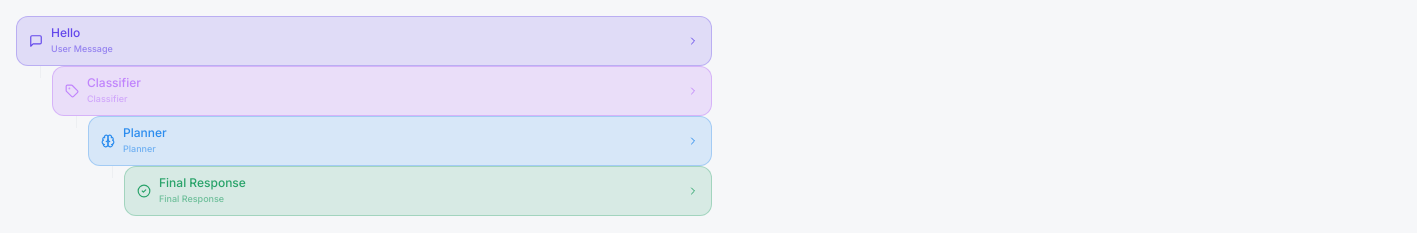
Scenario: UX1: Classifier detail panel › shows empty state when classification_done has no task_type or privacy_mode
Click the button "Classifier Classifier" at (114, 82), box [52,66,712,116]
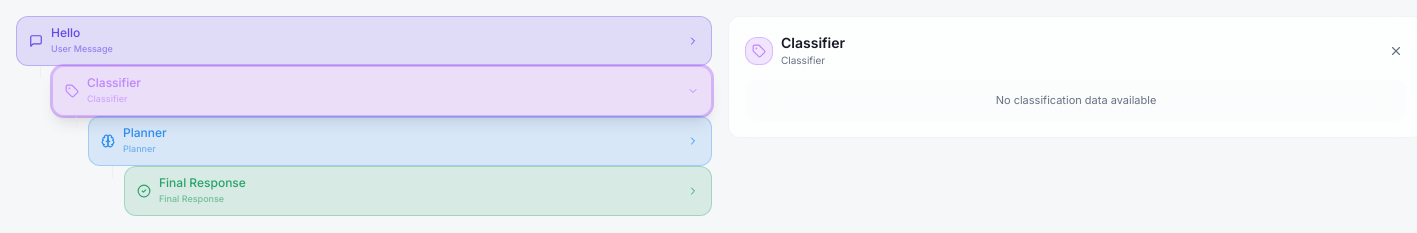
Now the text "No classification data available" is shown, box [996,93,1156,107]
